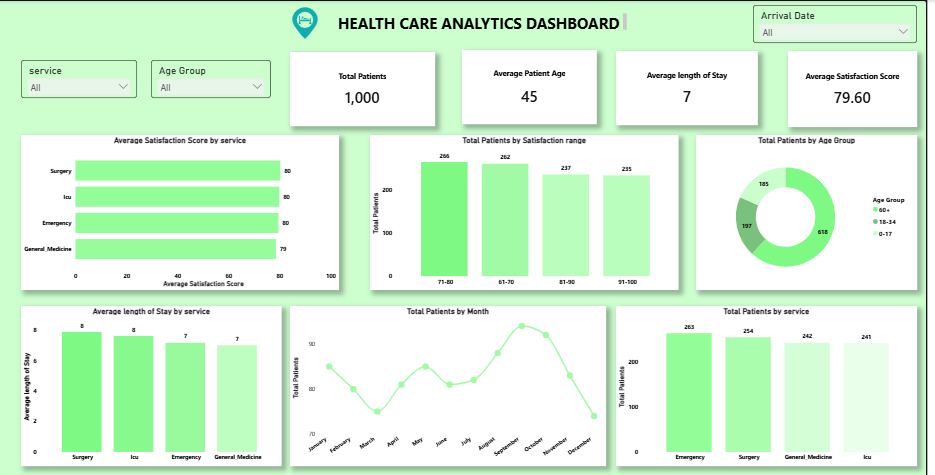

The dashboard page shown, as its layout file describes it:
{"tool":"powerbi","page":{"name":"Page 1","canvas":[1980,1020],"ordinal":0},"visuals":[{"type":"cardVisual","fields":{"Data":["DimPatient.Total Patients"]},"box":[623.8,110.7,308.7,157.5],"z":0},{"type":"cardVisual","fields":{"Data":["DimPatient.Avg Patient Age"]},"box":[990,106.5,287.4,157.5],"z":1000},{"type":"cardVisual","fields":{"Data":["FactPatient.Average length of Stay"]},"box":[1317.9,108.6,302.3,157.5],"z":2000},{"type":"cardVisual","fields":{"Data":["FactPatient.Average Satisfaction Score"]},"box":[1684.1,108.6,274.6,161.8],"z":3000},{"type":"columnChart","fields":{"Category":["DimService.service"],"Y":["DimPatient.Total Patients"]},"box":[1317.8,650.8,640.6,340.7],"z":4000},{"type":"barChart","fields":{"Y":["FactPatient.Average Satisfaction Score"],"Category":["DimService.service"]},"box":[51,287.6,677.3,330.5],"z":5000},{"type":"donutChart","fields":{"Category":["DimPatient.Age Group"],"Y":["DimPatient.Total Patients"]},"box":[1487.2,287.6,471.2,330.5],"z":6000},{"type":"clusteredColumnChart","fields":{"Category":["DimService.service"],"Y":["FactPatient.Average length of Stay"]},"box":[51,650.8,554.9,340.7],"z":7000},{"type":"lineChart","fields":{"Category":["FactPatient.arrival_date.Variation.Date Hierarchy.Month"],"Y":["DimPatient.Total Patients"]},"box":[623.8,651.5,672.8,340.6],"z":8000},{"type":"clusteredColumnChart","fields":{"Category":["FactPatient.Satisfaction range"],"Y":["DimPatient.Total Patients"]},"box":[793.6,287.6,656.9,330.5],"z":9000},{"type":"slicer","fields":{"Values":["DimService.service"]},"box":[51.1,127.7,247,80.9],"z":10000},{"type":"slicer","fields":{"Values":["FactPatient.arrival_date"]},"box":[1609.5,10.6,349.2,80.9],"z":11000},{"type":"slicer","fields":{"Values":["DimPatient.Age Group"]},"box":[327.9,127.7,255.5,80.9],"z":12000},{"type":"textbox","box":[721.7,23.4,623.8,49],"z":13000},{"type":"image","box":[583.4,12.8,144.8,72.4],"z":14000}]}

Visuals, with their boxes in screenshot pixels (x1, y1, x2, y2), scaled from the page's 1980x1020 canvas onto the 935x475 screenshot:
cardVisual - DimPatient.Total Patients: crop(295, 52, 440, 125)
cardVisual - DimPatient.Avg Patient Age: crop(468, 50, 603, 123)
cardVisual - FactPatient.Average length of Stay: crop(622, 51, 765, 124)
cardVisual - FactPatient.Average Satisfaction Score: crop(795, 51, 925, 126)
columnChart - DimService.service x DimPatient.Total Patients: crop(622, 303, 925, 462)
barChart - FactPatient.Average Satisfaction Score x DimService.service: crop(24, 134, 344, 288)
donutChart - DimPatient.Age Group x DimPatient.Total Patients: crop(702, 134, 925, 288)
clusteredColumnChart - DimService.service x FactPatient.Average length of Stay: crop(24, 303, 286, 462)
lineChart - FactPatient.arrival_date.Variation.Date Hierarchy.Month x DimPatient.Total Patients: crop(295, 303, 612, 462)
clusteredColumnChart - FactPatient.Satisfaction range x DimPatient.Total Patients: crop(375, 134, 685, 288)
slicer - DimService.service: crop(24, 59, 141, 97)
slicer - FactPatient.arrival_date: crop(760, 5, 925, 43)
slicer - DimPatient.Age Group: crop(155, 59, 275, 97)
textbox: crop(341, 11, 635, 34)
image: crop(275, 6, 344, 40)
